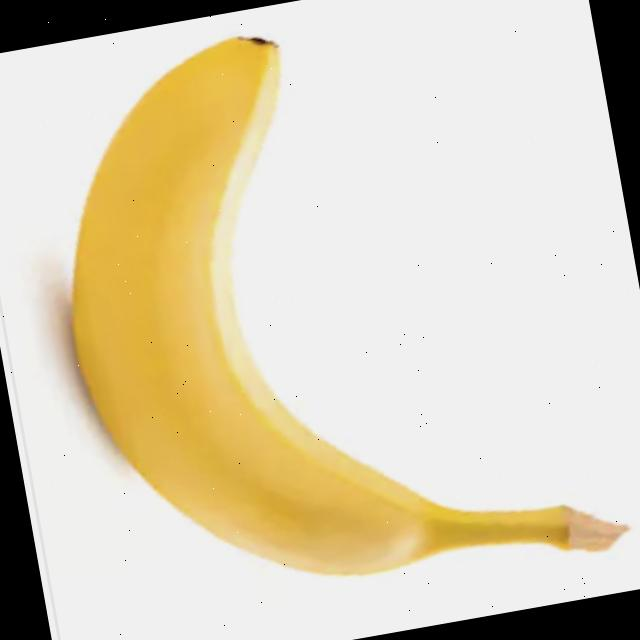banana: (25, 0, 631, 636)
